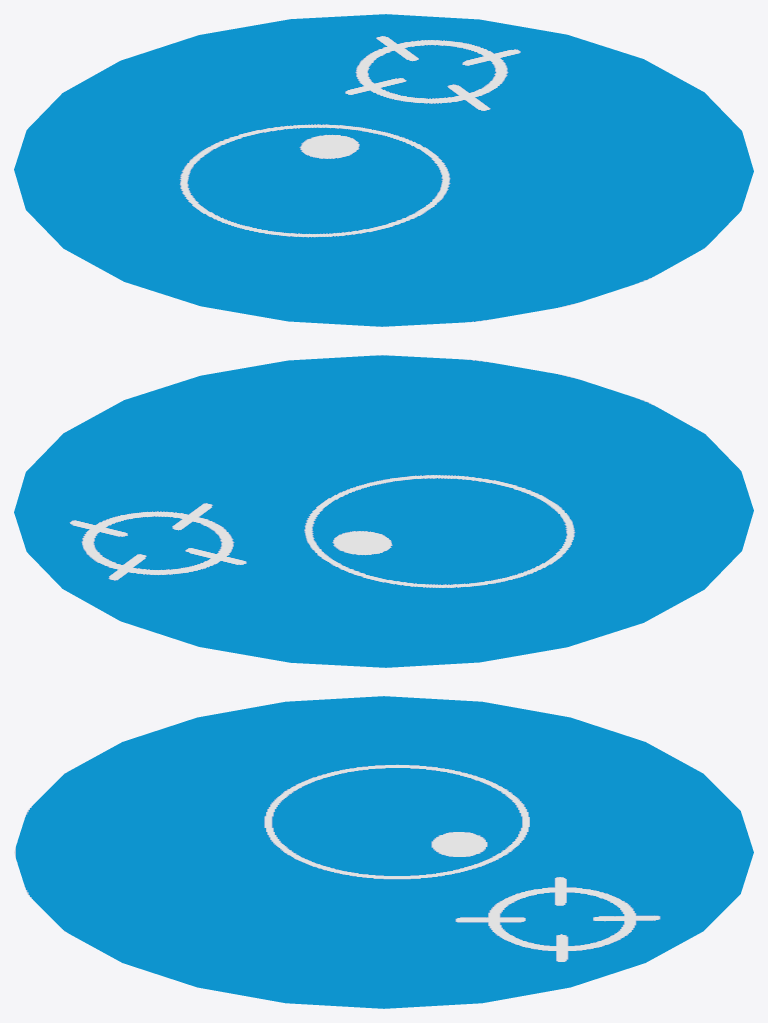
Rendered from 追蹤球.fbx.
3 renders of one model, top to bottom at view 1: azimuth 30°, elevation 25°; view 2: azimuth 150°, elevation 25°; view 3: azimuth 270°, elevation 25°, orthographic.
Visible parts, largest first — view 1: 追蹤球; view 2: 追蹤球; view 3: 追蹤球.
Part boxes in pixels (x1,y1,x2,y2): 追蹤球: (14, 14, 753, 326); 追蹤球: (14, 355, 753, 667); 追蹤球: (14, 696, 753, 1008).
Size of the model in its own units: 4 by 2.45e-16 by 4.
1 material, 1 textured.
